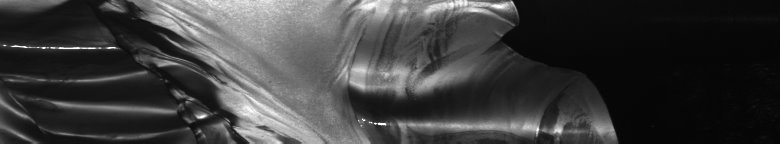ke: (4, 4, 492, 136)
